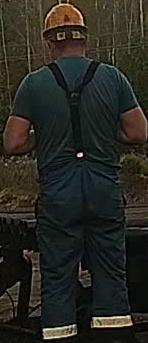helmet: (41, 2, 88, 42)
